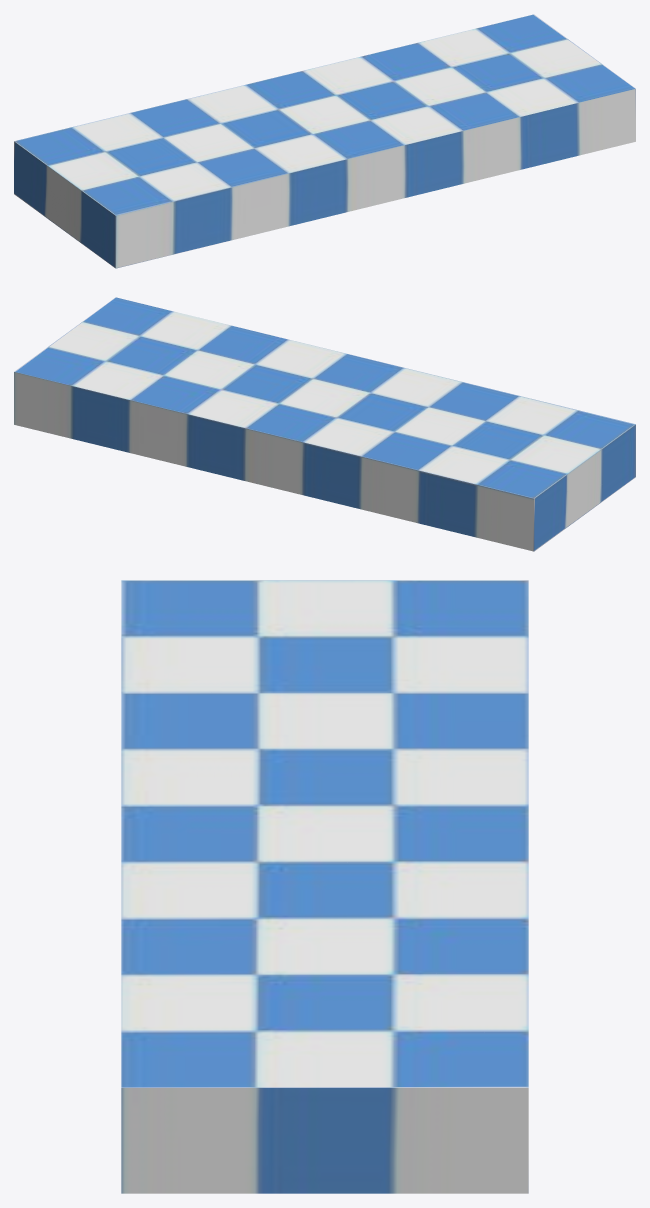
Rendered from SWB_Skinny_Ground.fbx.
3 renders of one model, top to bottom at view 1: azimuth 30°, elevation 25°; view 2: azimuth 150°, elevation 25°; view 3: azimuth 270°, elevation 25°, orthographic. The views are drawn at different scales.
Visible parts, largest first — view 1: Cube; view 2: Cube; view 3: Cube.
Part boxes in pixels (box(x1,y1,x2,y2)): Cube: box(14, 14, 635, 268); Cube: box(14, 297, 635, 551); Cube: box(121, 580, 528, 1193).
Size of the model in its own units: 233 by 22.61 by 78.8.
